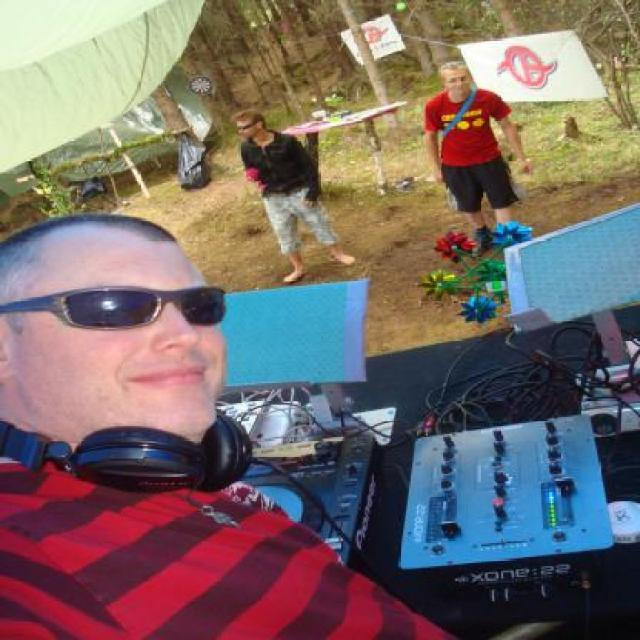earphone: (0, 383, 301, 523)
